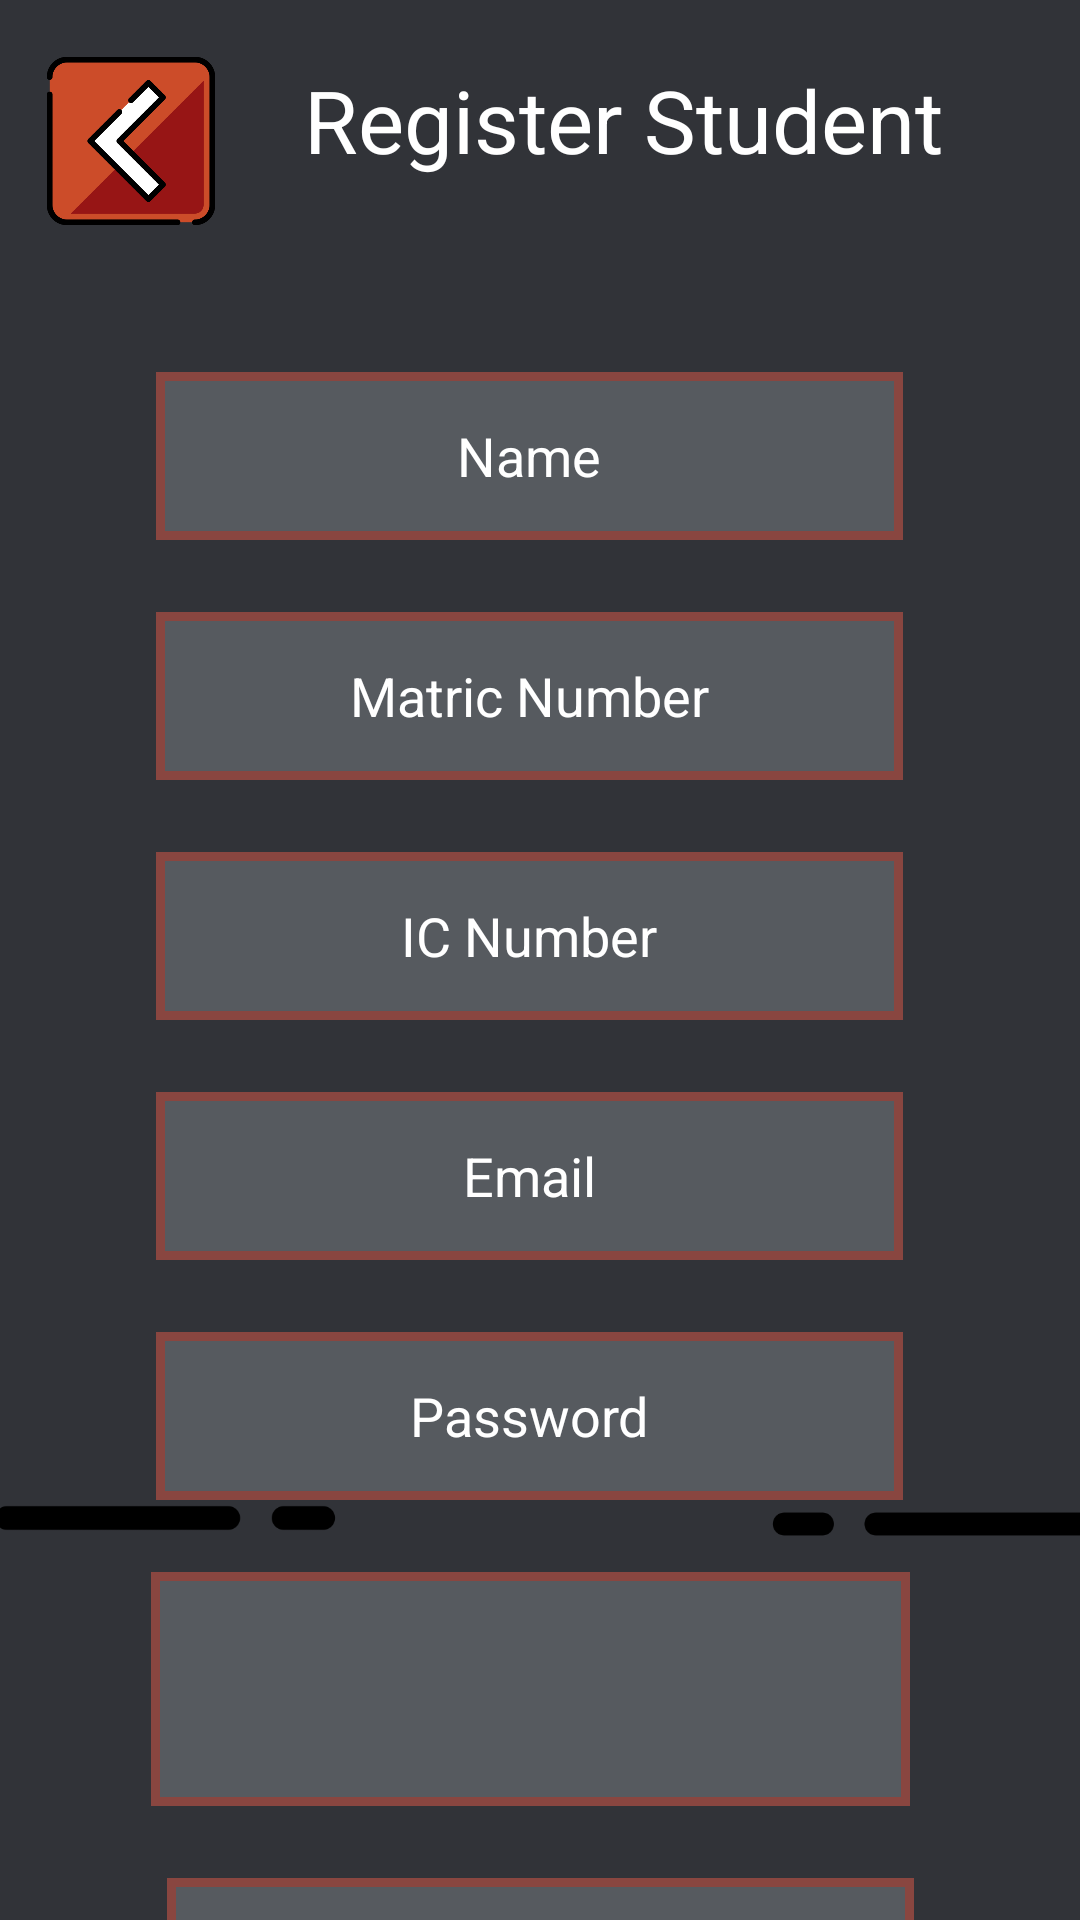

Point at icon controls on the screen. Image size 1080px x 1920px, points as (x=x, y=y).
backbutton: (x=131, y=141)
